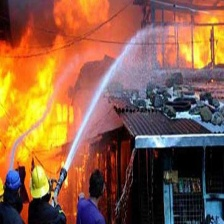fire: (1, 38, 83, 186), (174, 3, 220, 68)
